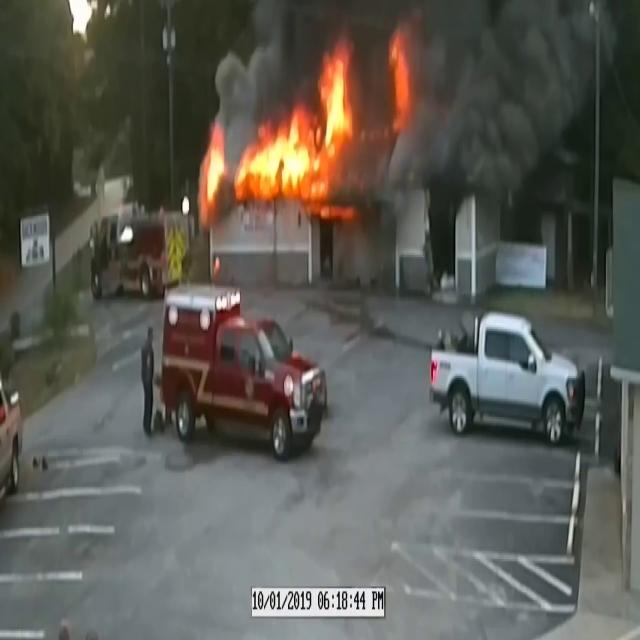Fire: (206, 46, 356, 212)
Smoke: (354, 0, 606, 208)
